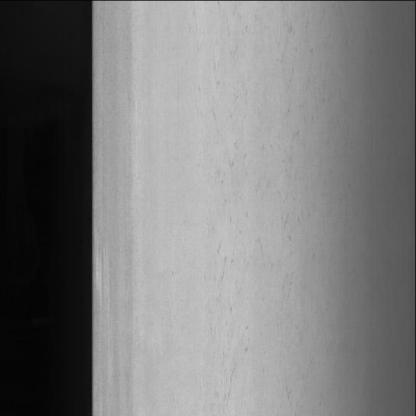silk_spot: (206, 98, 274, 406)
